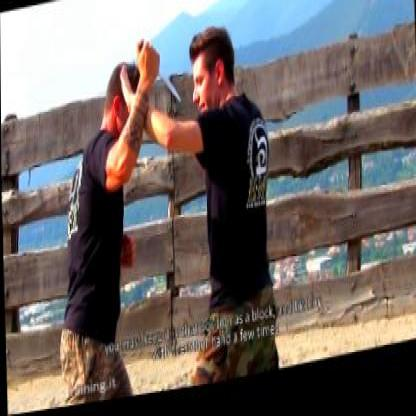knife: (132, 32, 182, 119)
